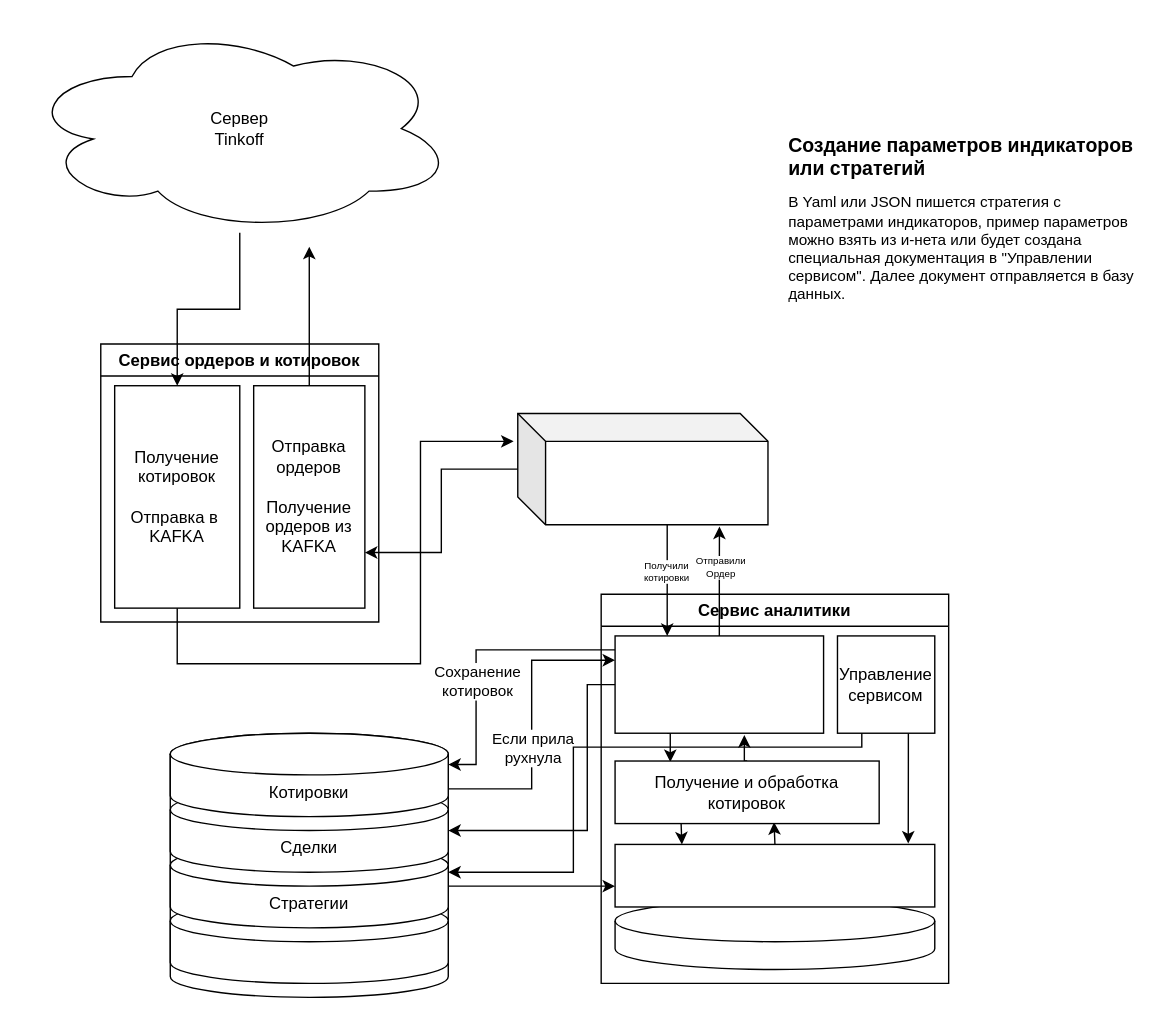
This 1168x1022 diagram has some shape labels left out. The shapes that lost their labels are listed below. From the top down, each one's centre as x and y in pixels, then its label:
At (x=642, y=468): "KAFKA SERVICE".
At (x=719, y=684): "Модуль работы с котировками и отправка ордеров".
At (x=774, y=875): "Индикаторы".
At (x=308, y=941): "Spring Security".
At (x=774, y=934): "RAM Storage".
